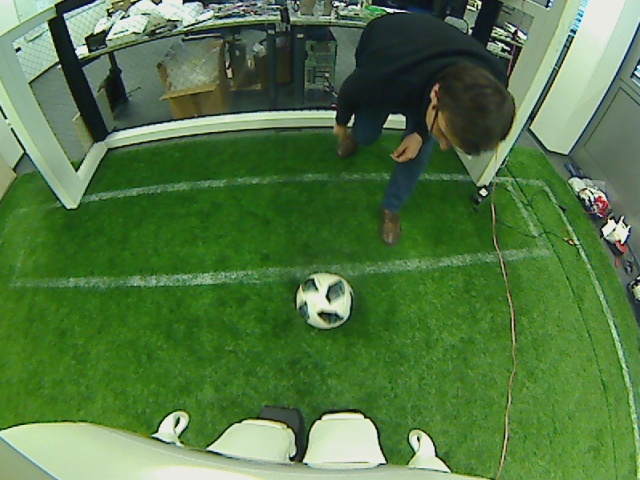ball: (292, 271, 355, 330)
